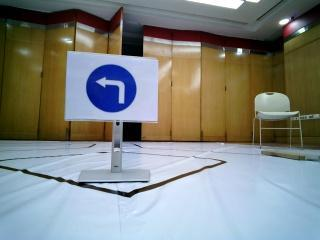left: (82, 55, 158, 122)
